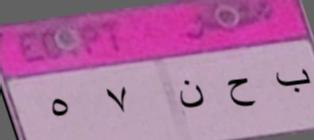5: (47, 96, 72, 123)
7: (103, 84, 133, 117)
7aa: (222, 73, 257, 110)
baa: (268, 67, 313, 97)
noon: (173, 75, 207, 113)
